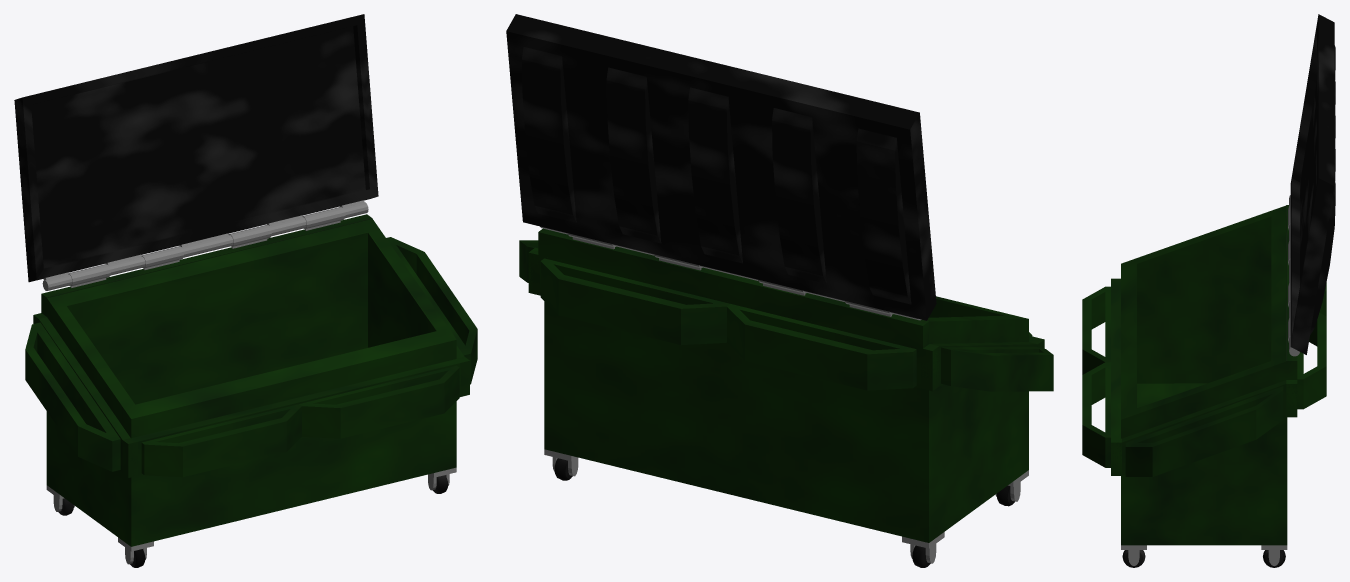
File: GarbageBin.fbx
3 views of the same model, side by side, from view 1: azimuth 30°, elevation 25°; view 2: azimuth 150°, elevation 25°; view 3: azimuth 270°, elevation 25° (orthographic). The views are drawn at different scales.
Visible parts, largest first — view 1: GarbageBinOpen; view 2: GarbageBinOpen; view 3: GarbageBinOpen.
Part boxes in pixels (box(x1,y1,x2,y2)): GarbageBinOpen: box(14, 14, 477, 567); GarbageBinOpen: box(506, 14, 1053, 567); GarbageBinOpen: box(1082, 14, 1335, 567).
Bounding box in the file's own units: 491 × 476 × 274.
